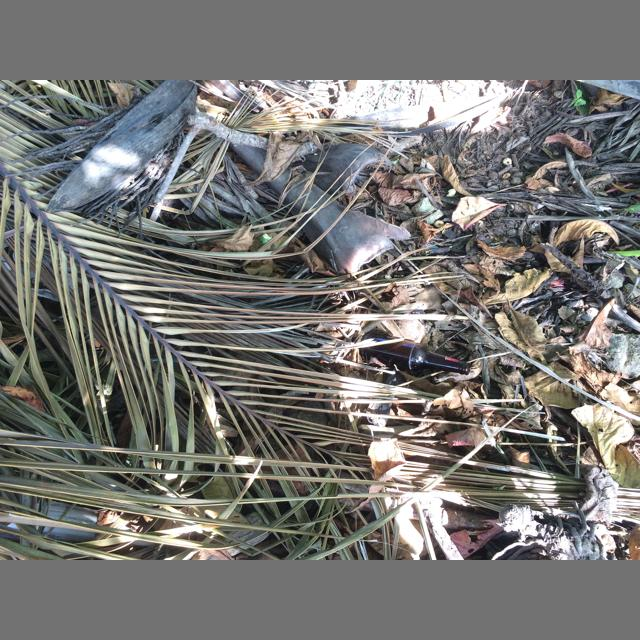litter: (358, 332, 471, 375)
